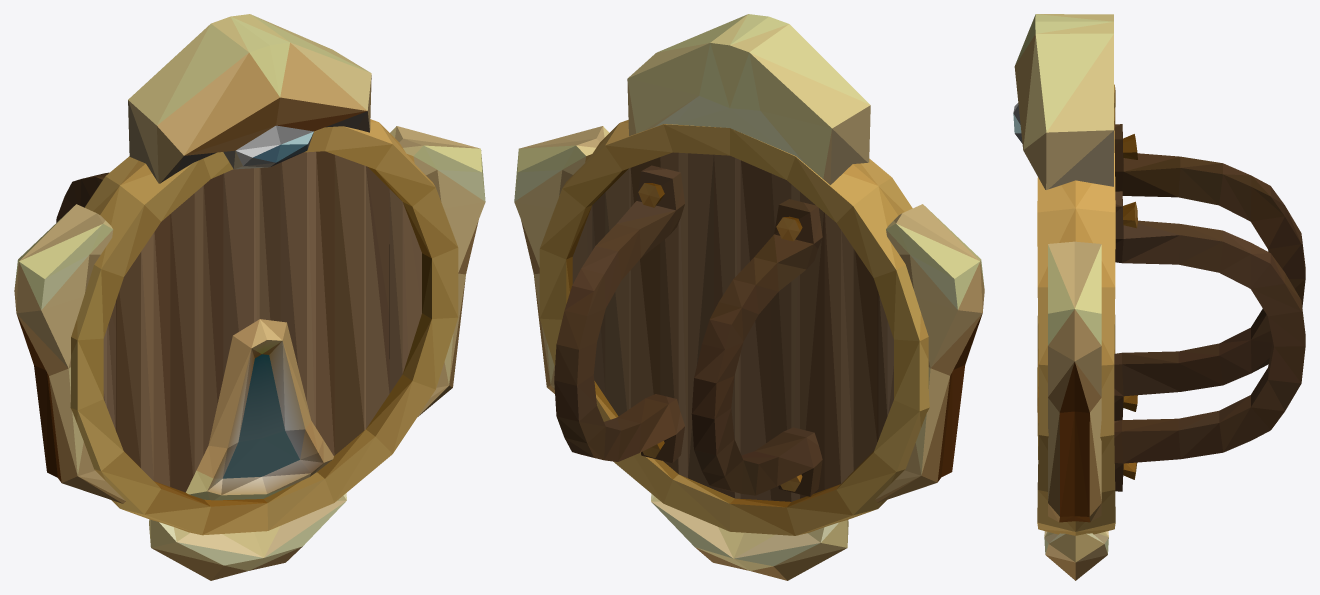
The model's file is weapon_shield_gold_2.fbx.
The picture shows the model from 3 angles, left to right: view 1: azimuth 30°, elevation 25°; view 2: azimuth 150°, elevation 25°; view 3: azimuth 270°, elevation 25°; orthographic projection.
Visible parts, largest first — view 1: weapon_shield_gold_2; view 2: weapon_shield_gold_2; view 3: weapon_shield_gold_2.
Part boxes in pixels (x1,y1,x2,y2): weapon_shield_gold_2: (14, 14, 485, 580); weapon_shield_gold_2: (514, 14, 984, 580); weapon_shield_gold_2: (1013, 14, 1305, 580).
Bounding box in the file's own units: 0.803 × 0.8882 × 0.4345.
